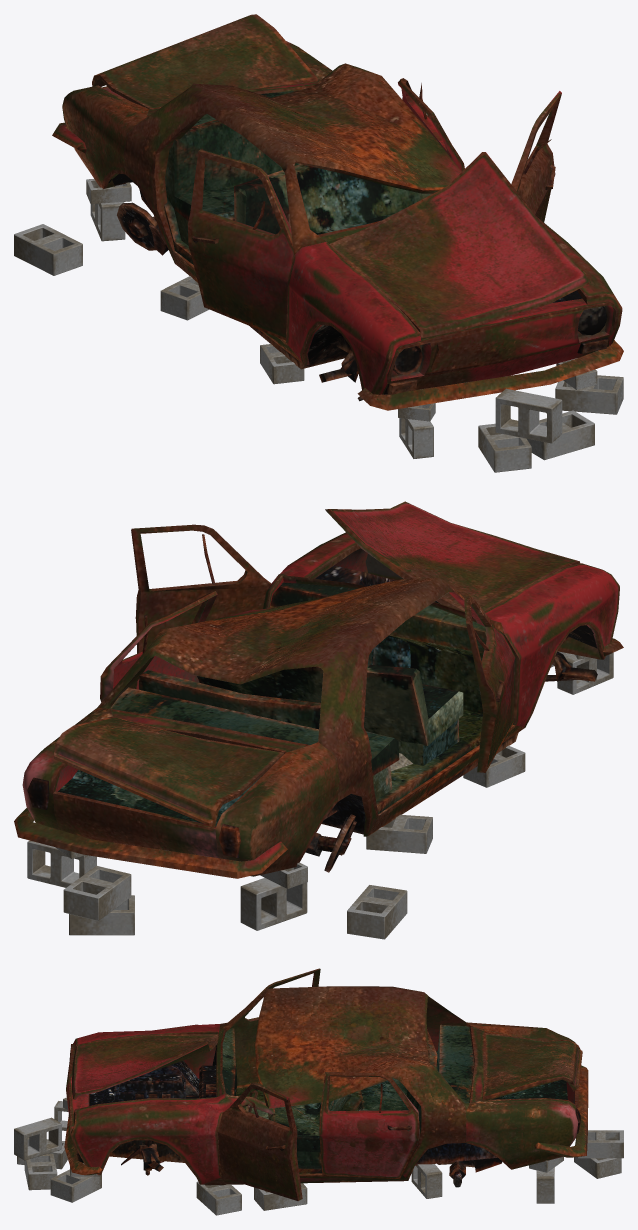
Rendered from Prop_Scrap_Car.fbx.
3 renders of one model, top to bottom at view 1: azimuth 30°, elevation 25°; view 2: azimuth 150°, elevation 25°; view 3: azimuth 270°, elevation 25°, orthographic. The views are drawn at different scales.
Parts seen in each view (by area): view 1: Prop_Scrap_Car; view 2: Prop_Scrap_Car; view 3: Prop_Scrap_Car.
Part boxes in pixels (box(x1,y1,x2,y2)): Prop_Scrap_Car: box(14, 14, 623, 472); Prop_Scrap_Car: box(14, 501, 623, 939); Prop_Scrap_Car: box(14, 968, 623, 1215).
Size of the model in its own units: 141 by 70.97 by 254.
